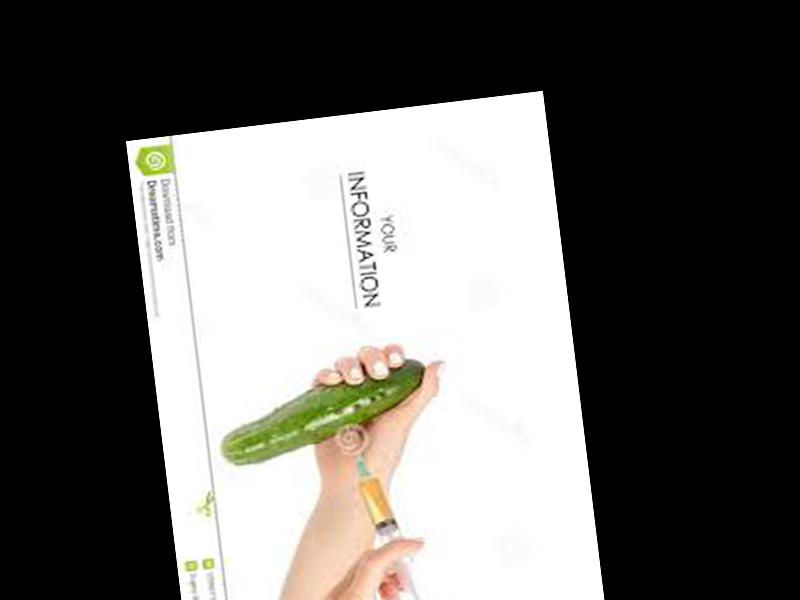Cucumber: (212, 358, 433, 467)
